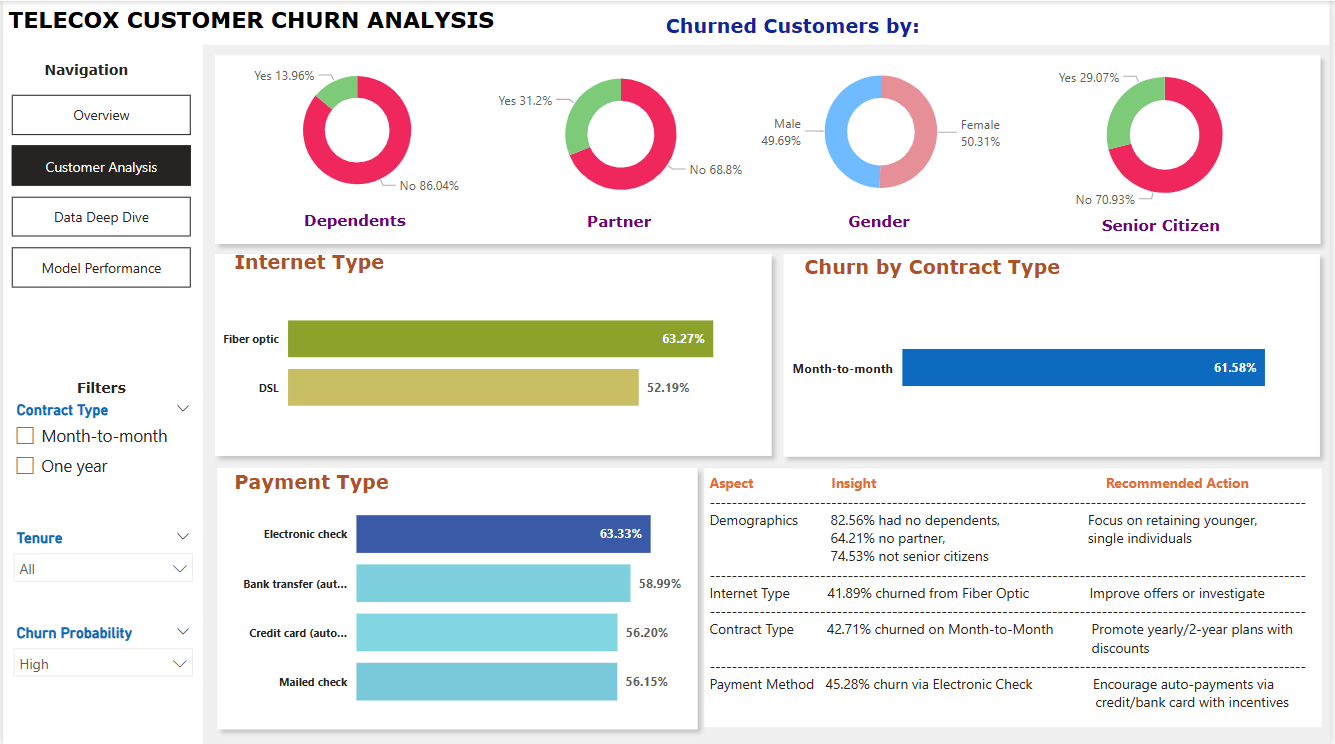

The dashboard page shown, as its layout file describes it:
{"tool":"powerbi","page":{"name":"Customer Analysis","canvas":[1280,720],"ordinal":1},"visuals":[{"type":"group","id":"g1","title":"Group 5","box":[195.4,43.4,1084.6,200.3],"z":0},{"type":"shape","box":[195.4,43.4,1084.6,200.3],"z":0,"group":"g1"},{"type":"donutChart","fields":{"Category":["churn_dashboard_ready.gender"],"Y":["churn_dashboard_ready.Churned Customers"]},"box":[705.8,50.7,283.5,151.3],"z":0,"group":"g6"},{"type":"donutChart","fields":{"Category":["churn_dashboard_ready.Dependents"],"Y":["churn_dashboard_ready.Churned Customers"]},"box":[207.5,51.9,269,146],"z":0,"group":"g4"},{"type":"donutChart","fields":{"Category":["churn_dashboard_ready.SeniorCitizen"],"Y":["churn_dashboard_ready.Churned Customers"]},"box":[970,51.9,302.8,155],"z":0,"group":"g7"},{"type":"donutChart","fields":{"Category":["churn_dashboard_ready.Partner"],"Y":["churn_dashboard_ready.Churned Customers"]},"box":[448.8,54.3,295.6,149],"z":0,"group":"g5"},{"type":"shape","box":[744.4,235.3,535.7,213.5],"z":0,"group":"g8"},{"type":"shape","box":[195.4,235.7,555,213.1],"z":0,"group":"g2"},{"type":"shape","box":[197.9,441.6,481.4,270.2],"z":0,"group":"g3"},{"type":"shape","box":[0,42.2,193,678],"z":1000},{"type":"textbox","box":[257.5,197.4,165.3,32.6],"z":1000,"group":"g4"},{"type":"textbox","box":[758.8,199,173.3,31.5],"z":1000,"group":"g6"},{"type":"textbox","box":[503.8,199.1,180.7,33.2],"z":1000,"group":"g5"},{"type":"textbox","box":[1033,202.7,169.5,34.6],"z":1000,"group":"g7"},{"type":"shape","box":[0,0,1280,42.2],"z":2000},{"type":"textbox","box":[0,0,596,43.4],"z":3000},{"type":"textbox","box":[21.7,51.9,117,37.4],"z":4000},{"type":"group","id":"g2","title":"Group 5","box":[195.4,235.3,555,213.5],"z":5000},{"type":"group","id":"g3","title":"Group 5","box":[197.9,441.6,481.4,270.2],"z":6000},{"type":"textbox","box":[36.2,359.5,117,37.4],"z":7000},{"type":"slicer","fields":{"Values":["churn_dashboard_ready.Contract"]},"box":[0,381.2,193,133.9],"z":8000},{"type":"barChart","fields":{"Category":["churn_dashboard_ready.InternetService"],"Y":["churn_dashboard_ready.Churn Rate %"]},"box":[205.8,253.3,533.1,186.6],"z":9000,"group":"g2"},{"type":"clusteredBarChart","fields":{"Category":["churn_dashboard_ready.Contract"],"Y":["churn_dashboard_ready.Churn Rate %"]},"box":[754.7,256.9,517.1,187.9],"z":9000,"group":"g8"},{"type":"barChart","fields":{"Category":["churn_dashboard_ready.PaymentMethod"],"Y":["churn_dashboard_ready.Churn Rate %"]},"box":[212.1,464.6,464.8,236.5],"z":9000,"group":"g3"},{"type":"slicer","fields":{"Values":["churn_dashboard_ready.Tenure_Group"]},"box":[0,504.3,193,65.1],"z":9000},{"type":"pageNavigator","box":[8.4,90.5,173.7,188.2],"z":10000},{"type":"textbox","box":[218.6,235.3,450.9,37.3],"z":10000,"group":"g2"},{"type":"textbox","box":[768.4,239.8,336,38.4],"z":10000,"group":"g8"},{"type":"textbox","box":[219,448,425.7,38.1],"z":10000,"group":"g3"},{"type":"group","id":"g4","title":"Group 1","box":[207.5,51.9,269,178.6],"z":11000},{"type":"group","id":"g5","title":"Group 1","box":[448.8,54.3,295.6,178.6],"z":12000},{"type":"group","id":"g6","title":"Group 1","box":[705.8,50.7,283.5,179.8],"z":13000},{"type":"group","id":"g7","title":"Group 1","box":[970,51.9,302.8,185.8],"z":14000},{"type":"slicer","fields":{"Values":["churn_dashboard_ready.Churn_Probability_Group"]},"box":[0,596,193,65.1],"z":15000},{"type":"textbox","box":[634.6,7.2,335.4,43.4],"z":16000},{"type":"group","id":"g8","title":"Group 5","box":[744.4,235.3,535.7,213.5],"z":17000},{"type":"textbox","box":[676.8,451.2,596,249.7],"z":18000}]}

Visuals, with their boxes in screenshot pixels (x1, y1, x2, y2), scaled from the page's 1280x720 canvas onto the 1335x744 screenshot:
"Group 5" group: rect(204, 45, 1334, 252)
shape: rect(204, 45, 1334, 252)
donutChart - churn_dashboard_ready.gender x churn_dashboard_ready.Churned Customers: rect(736, 52, 1032, 209)
donutChart - churn_dashboard_ready.Dependents x churn_dashboard_ready.Churned Customers: rect(216, 54, 497, 204)
donutChart - churn_dashboard_ready.SeniorCitizen x churn_dashboard_ready.Churned Customers: rect(1012, 54, 1327, 214)
donutChart - churn_dashboard_ready.Partner x churn_dashboard_ready.Churned Customers: rect(468, 56, 776, 210)
shape: rect(776, 243, 1334, 464)
shape: rect(204, 244, 783, 464)
shape: rect(206, 456, 708, 736)
shape: rect(0, 44, 201, 743)
textbox: rect(269, 204, 441, 238)
textbox: rect(791, 206, 972, 238)
textbox: rect(525, 206, 714, 240)
textbox: rect(1077, 209, 1254, 245)
shape: rect(0, 0, 1334, 44)
textbox: rect(0, 0, 622, 45)
textbox: rect(23, 54, 145, 92)
"Group 5" group: rect(204, 243, 783, 464)
"Group 5" group: rect(206, 456, 708, 736)
textbox: rect(38, 371, 160, 410)
slicer - churn_dashboard_ready.Contract: rect(0, 394, 201, 532)
barChart - churn_dashboard_ready.InternetService x churn_dashboard_ready.Churn Rate %: rect(215, 262, 771, 455)
clusteredBarChart - churn_dashboard_ready.Contract x churn_dashboard_ready.Churn Rate %: rect(787, 265, 1326, 460)
barChart - churn_dashboard_ready.PaymentMethod x churn_dashboard_ready.Churn Rate %: rect(221, 480, 706, 724)
slicer - churn_dashboard_ready.Tenure_Group: rect(0, 521, 201, 588)
pageNavigator: rect(9, 94, 190, 288)
textbox: rect(228, 243, 698, 282)
textbox: rect(801, 248, 1152, 287)
textbox: rect(228, 463, 672, 502)
"Group 1" group: rect(216, 54, 497, 238)
"Group 1" group: rect(468, 56, 776, 241)
"Group 1" group: rect(736, 52, 1032, 238)
"Group 1" group: rect(1012, 54, 1327, 246)
slicer - churn_dashboard_ready.Churn_Probability_Group: rect(0, 616, 201, 683)
textbox: rect(662, 7, 1012, 52)
"Group 5" group: rect(776, 243, 1334, 464)
textbox: rect(706, 466, 1327, 724)
